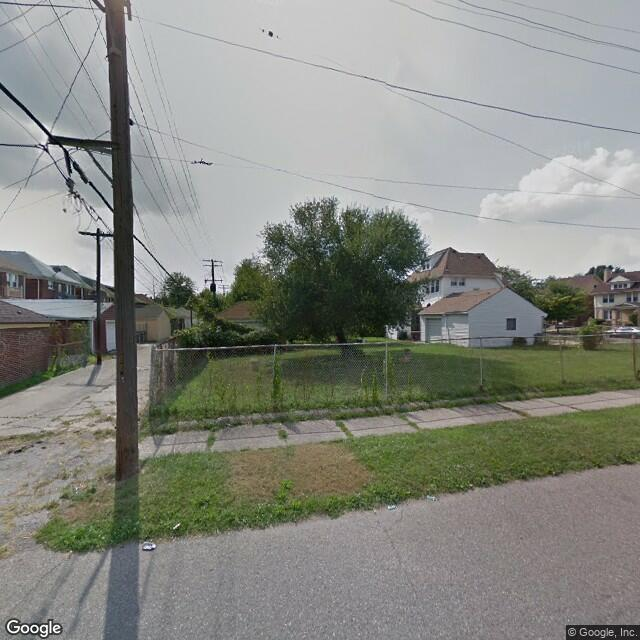litter: (140, 539, 157, 552), (424, 494, 438, 503), (170, 523, 181, 530), (388, 502, 395, 512)
